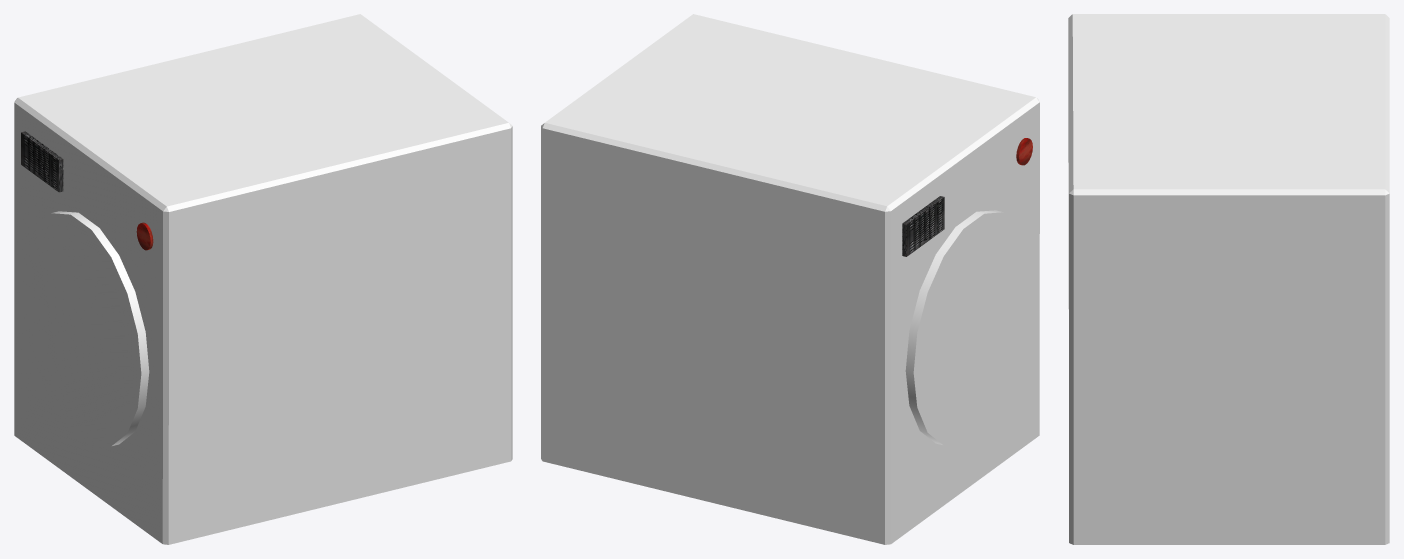
File: machine à laver.FBX
The picture shows the model from 3 angles, left to right: view 1: azimuth 30°, elevation 25°; view 2: azimuth 150°, elevation 25°; view 3: azimuth 270°, elevation 25°; orthographic projection. The views are drawn at different scales.
Visible parts, largest first — view 1: Cylindre002; view 2: Cylindre002; view 3: Cylindre002.
Part boxes in pixels (box(x1,y1,x2,y2)): Cylindre002: box(14, 14, 512, 544); Cylindre002: box(541, 14, 1039, 544); Cylindre002: box(1068, 14, 1389, 544).
Size of the model in its own units: 23.77 by 21.39 by 17.63.
Materials: 3 (3 with a texture image).
